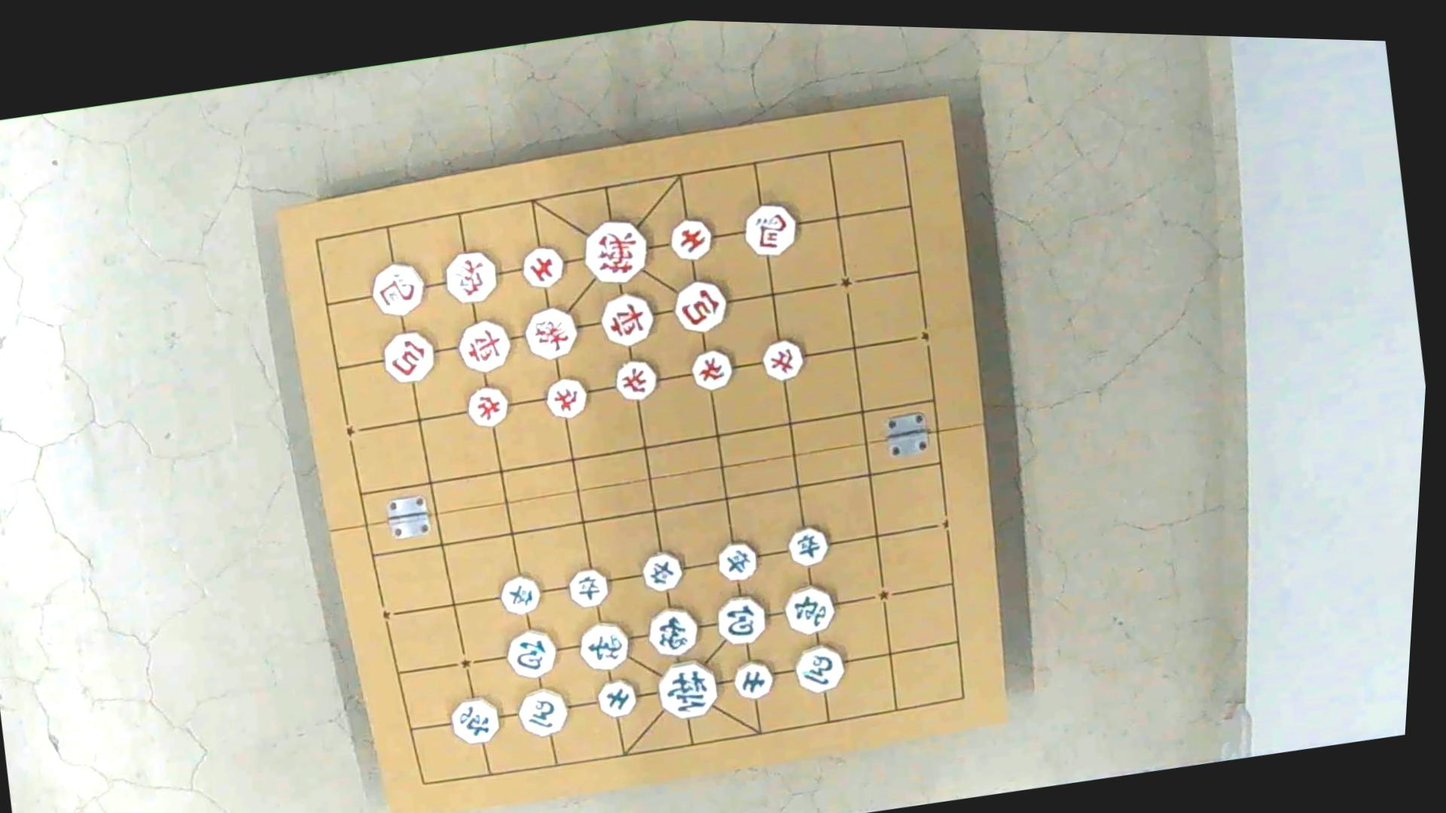cha_green: (781, 581, 842, 638), (447, 694, 505, 748)
cha_red: (455, 316, 517, 376), (597, 291, 659, 350)
jol_green: (496, 574, 545, 619), (786, 524, 833, 569), (566, 566, 612, 611), (639, 550, 685, 595), (715, 539, 761, 584)
jol_red: (464, 383, 513, 431), (759, 337, 808, 384), (688, 347, 737, 394), (612, 357, 660, 404), (543, 376, 590, 422)
ma_green: (791, 641, 850, 696), (515, 685, 574, 740)
ma_red: (367, 260, 429, 320), (740, 201, 801, 260)
po_green: (712, 592, 773, 650), (502, 626, 561, 682)
po_red: (670, 276, 733, 336), (380, 327, 441, 388)
sa_green: (730, 658, 777, 703), (593, 676, 641, 720)
sa_red: (667, 216, 715, 263), (520, 245, 568, 291)
sang_green: (643, 603, 704, 662), (575, 618, 634, 674)
sang_red: (441, 248, 503, 307), (521, 305, 581, 363)
wang_green: (653, 656, 724, 723)
wang_red: (579, 216, 654, 290)
